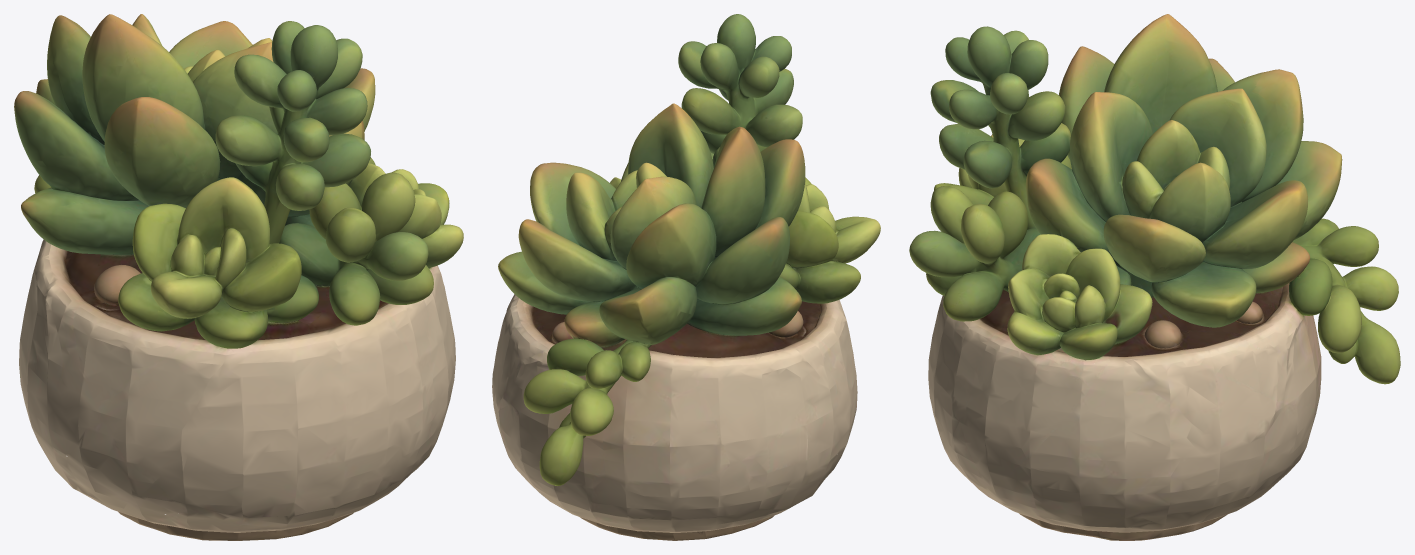
The model's file is plant1-66cbc6e8e2b3.glb.
3 renders of one model, left to right at view 1: azimuth 30°, elevation 25°; view 2: azimuth 150°, elevation 25°; view 3: azimuth 270°, elevation 25°, orthographic. The views are drawn at different scales.
Parts seen in each view (by area): view 1: tripo_node_0fde76c8-83ec-4765-abb0-82b368a3dd1a; view 2: tripo_node_0fde76c8-83ec-4765-abb0-82b368a3dd1a; view 3: tripo_node_0fde76c8-83ec-4765-abb0-82b368a3dd1a.
Part boxes in pixels (box(x1,y1,x2,y2)): tripo_node_0fde76c8-83ec-4765-abb0-82b368a3dd1a: box(14, 14, 463, 540); tripo_node_0fde76c8-83ec-4765-abb0-82b368a3dd1a: box(492, 14, 880, 540); tripo_node_0fde76c8-83ec-4765-abb0-82b368a3dd1a: box(909, 14, 1400, 540).
Size of the model in its own units: 0.7569 by 0.9808 by 0.941.
Materials: 1 (1 with a texture image).
